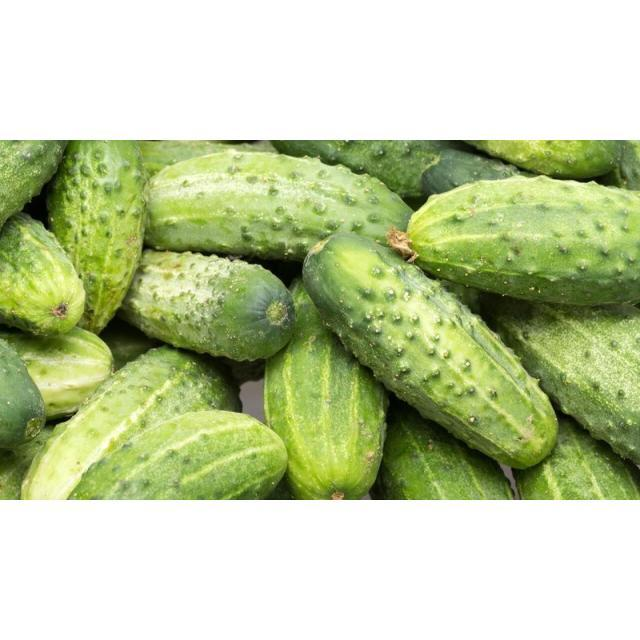cucumber: (296, 216, 588, 472)
